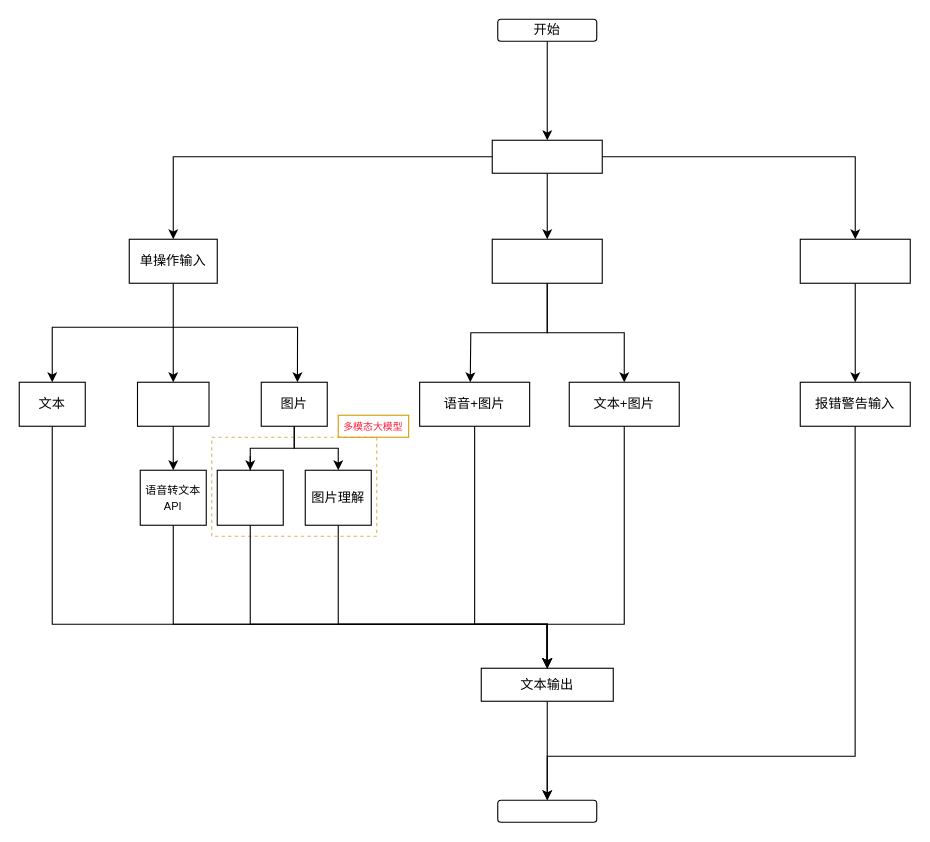
Some shapes in this 930 by 842 pixel diagram are drawn without their labels. The centre of each missing label's shape, as x and y in pixels:
OCR提取: pixel 249 497
其它数量输入: pixel 854 260
双操作输入: pixel 546 260
结束: pixel 547 810
语音: pixel 172 403
输入项个数检查: pixel 546 156
